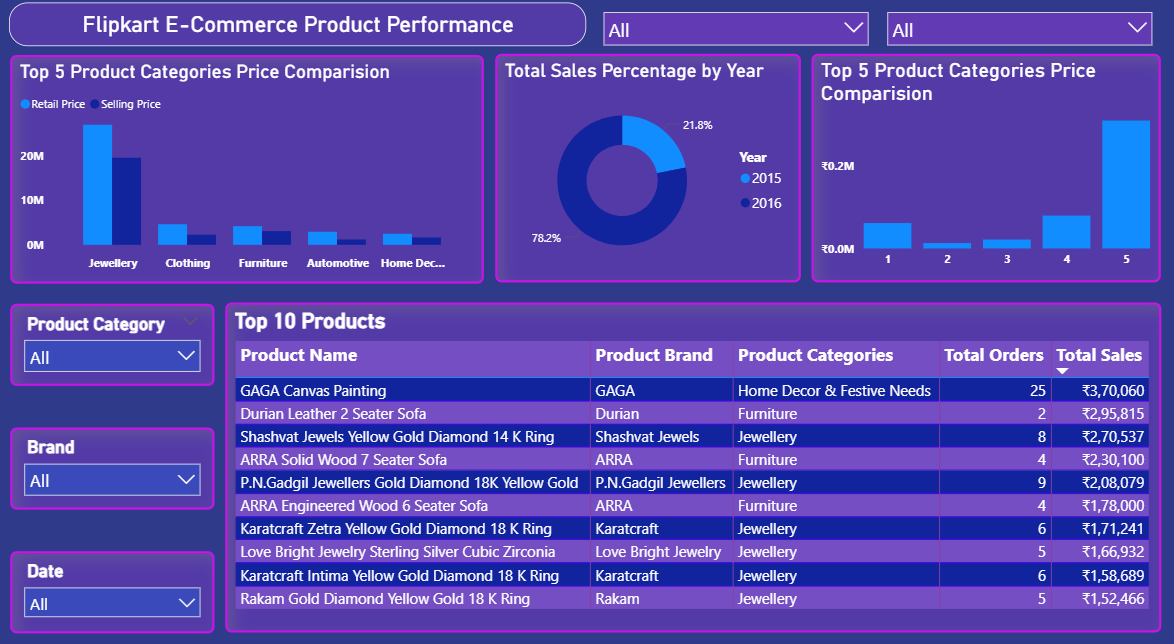

Layout of this report page (visuals, bound fields, positions):
{"tool":"powerbi","page":{"name":"Product Performance","canvas":[1280,720],"ordinal":1},"visuals":[{"type":"textbox","box":[0,0,1280,55.5],"z":0},{"type":"clusteredColumnChart","title":"Top 5 Product Categories Price Comparision","fields":{"Category":["flipkart_com-ecommerce_sample.product categories"],"Y":["Sum(flipkart_com-ecommerce_sample.retail price)","Sum(flipkart_com-ecommerce_sample.selling price)"]},"box":[17.8,64.5,511.8,247],"z":1000},{"type":"slicer","fields":{"Values":["flipkart_com-ecommerce_sample.product_rating"]},"box":[955.5,0,306.4,63.9],"z":2000},{"type":"slicer","fields":{"Values":["flipkart_com-ecommerce_sample.order date.Variation.Date Hierarchy.Month"]},"box":[649.1,0,306.4,63.9],"z":3000},{"type":"donutChart","title":"Total Sales Percentage by Year","fields":{"Category":["flipkart_com-ecommerce_sample.order date.Variation.Date Hierarchy.Year"],"Y":["Sum(flipkart_com-ecommerce_sample.selling price)"]},"box":[542,65.9,330.7,245.6],"z":4000},{"type":"clusteredColumnChart","title":"Top 5 Product Categories Price Comparision","fields":{"Y":["Sum(flipkart_com-ecommerce_sample.selling price)"],"Category":["flipkart_com-ecommerce_sample.product_rating"]},"box":[883.1,66.4,377.6,244.9],"z":5000},{"type":"tableEx","title":"Top 10 Products","fields":{"Values":["flipkart_com-ecommerce_sample.Product name","flipkart_com-ecommerce_sample.product brand","flipkart_com-ecommerce_sample.product categories","CountNonNull(flipkart_com-ecommerce_sample.product ID)","Sum(flipkart_com-ecommerce_sample.selling price)"]},"box":[249.7,333,1012.2,357.1],"z":6000},{"type":"slicer","title":"Top 5 Product Categories Price Comparision","fields":{"Values":["flipkart_com-ecommerce_sample.product categories"]},"box":[17.8,333.4,220.9,89.2],"z":6001},{"type":"slicer","title":"Top 5 Product Categories Price Comparision","fields":{"Values":["flipkart_com-ecommerce_sample.product brand"]},"box":[17.8,467.9,220.9,89.2],"z":6002},{"type":"slicer","title":"Top 5 Product Categories Price Comparision","fields":{"Values":["flipkart_com-ecommerce_sample.order date"]},"box":[17.8,601,220.9,89.2],"z":6003}]}

Visuals, with their boxes in screenshot pixels (x1, y1, x2, y2), scaled from the page's 1280x720 canvas onto the 1174x644 screenshot:
textbox: [left=0, top=0, right=1173, bottom=50]
"Top 5 Product Categories Price Comparision" clusteredColumnChart: [left=16, top=58, right=486, bottom=279]
slicer - flipkart_com-ecommerce_sample.product_rating: [left=876, top=0, right=1157, bottom=57]
slicer - flipkart_com-ecommerce_sample.order date.Variation.Date Hierarchy.Month: [left=595, top=0, right=876, bottom=57]
"Total Sales Percentage by Year" donutChart: [left=497, top=59, right=800, bottom=279]
"Top 5 Product Categories Price Comparision" clusteredColumnChart: [left=810, top=59, right=1156, bottom=278]
"Top 10 Products" tableEx: [left=229, top=298, right=1157, bottom=617]
"Top 5 Product Categories Price Comparision" slicer: [left=16, top=298, right=219, bottom=378]
"Top 5 Product Categories Price Comparision" slicer: [left=16, top=419, right=219, bottom=498]
"Top 5 Product Categories Price Comparision" slicer: [left=16, top=538, right=219, bottom=617]
